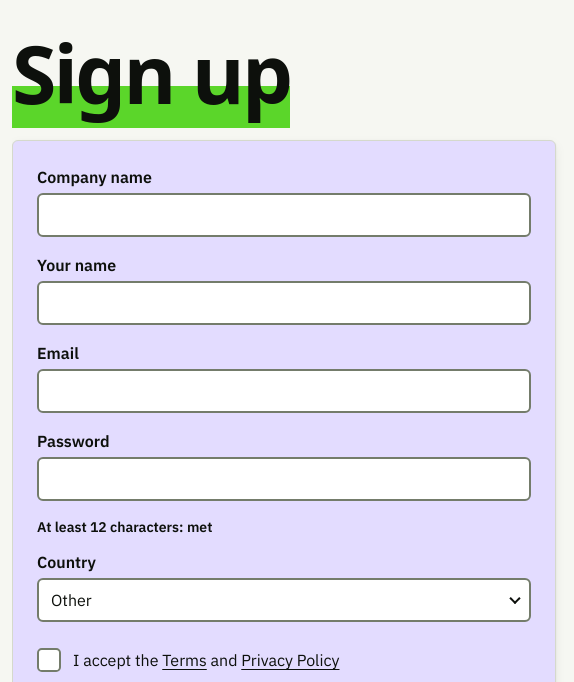
Test: submitting › shows why a weak password was refused, next to the password
In the field labelled "Company name": [284, 215] box [37,193,531,237], type "Fake Test Ltd"
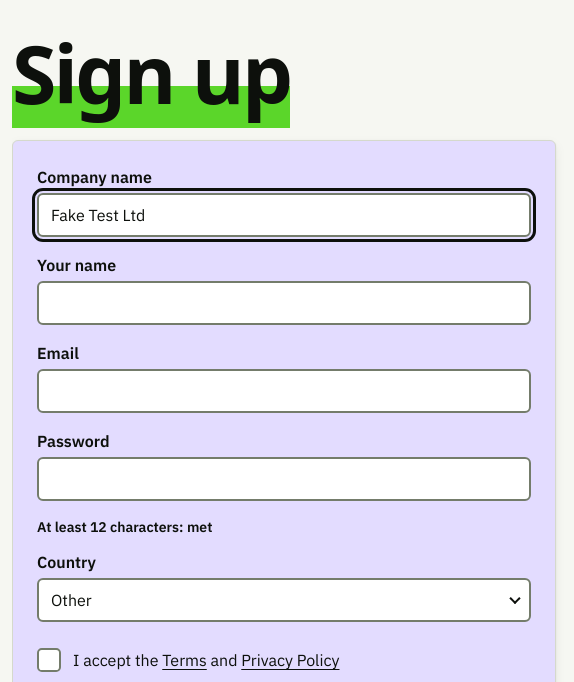
In the field labelled "Your name": [284, 303] box [37,281,531,325], type "Fake Owner"
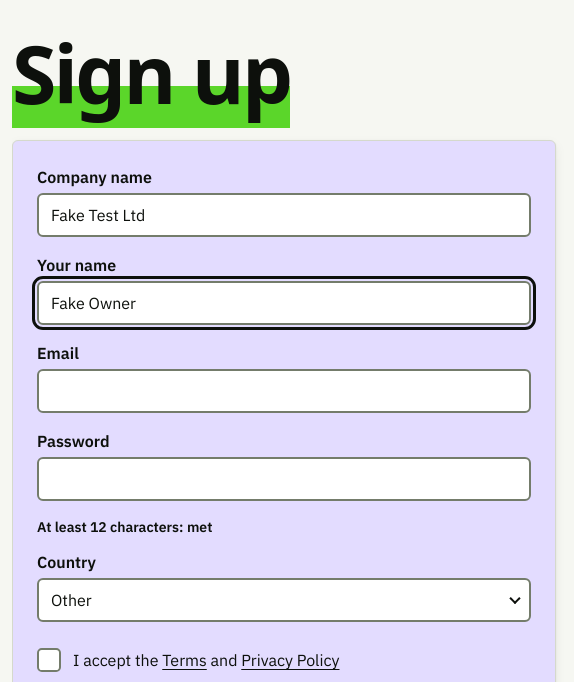
In the field labelled "Email": [284, 391] box [37,369,531,413], type "owner@example.test"
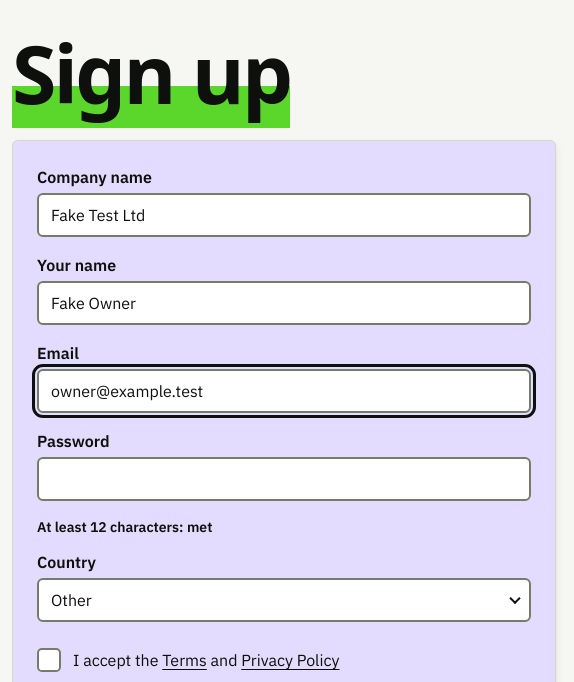
In the password field labelled "Password": [284, 479] box [37,457,531,501], type "password"
(page scrolled)
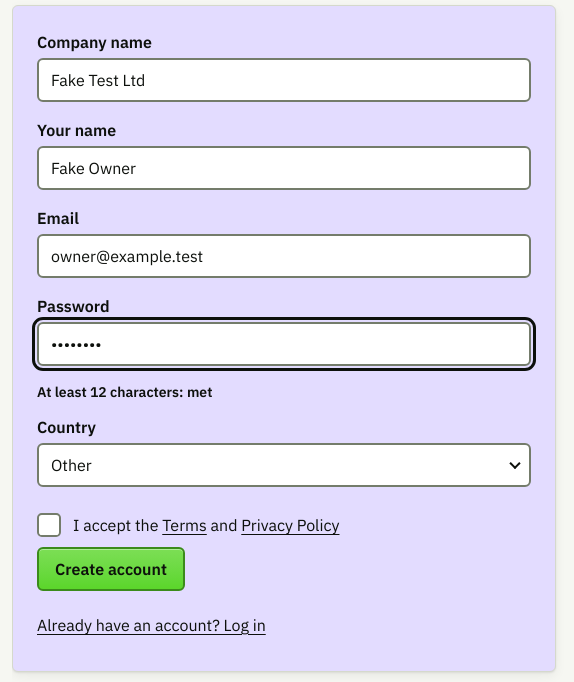
Click the button "Create account": [111, 569] box [37,547,185,591]
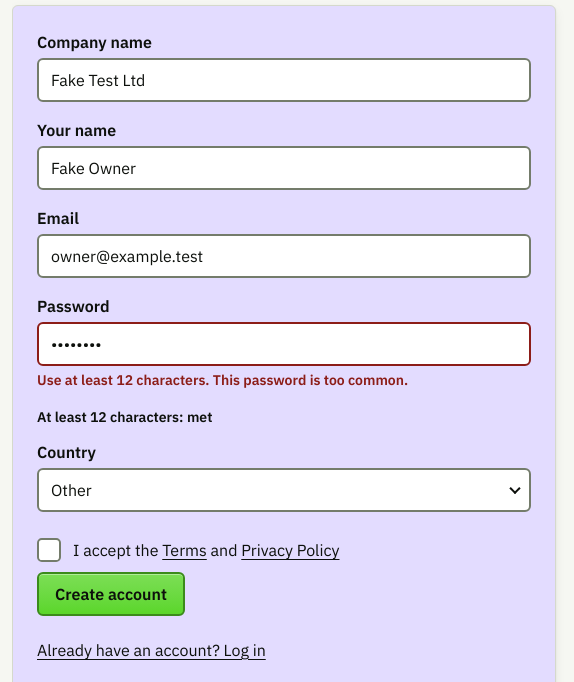
Expected: the text "Use at least 12 characters. This password is too common." is shown, [36,370,408,389]
